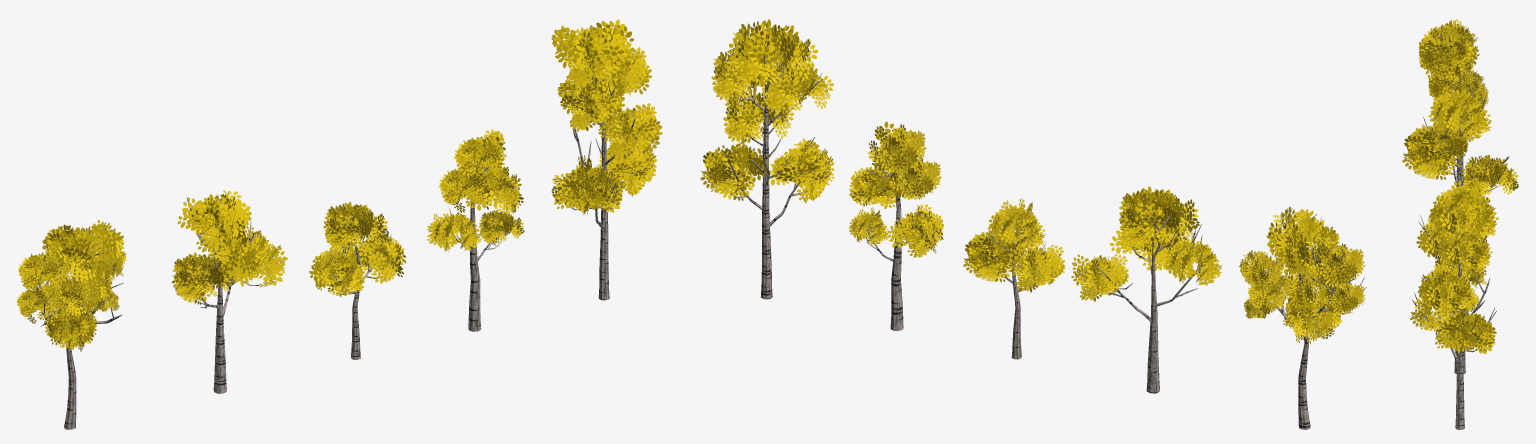
The model's file is birch-pack.glb.
3 views of the same model, side by side, from view 1: azimuth 30°, elevation 25°; view 2: azimuth 150°, elevation 25°; view 3: azimuth 270°, elevation 25° (orthographic). The views are drawn at different scales.
Visible parts, largest first — view 1: BirchTree_2, BirchTree_3, BirchTree_5, BirchTree_1, BirchTree_4; view 2: BirchTree_2, BirchTree_3, BirchTree_5, BirchTree_1, BirchTree_4; view 3: BirchTree_2, BirchTree_5, BirchTree_3, BirchTree_1.
Boxes of the visible parts, box(x1,y1,x2,y2) form: BirchTree_2: box(551, 19, 662, 300); BirchTree_3: box(17, 220, 126, 429); BirchTree_5: box(171, 190, 287, 393); BirchTree_1: box(427, 129, 524, 331); BirchTree_4: box(309, 201, 406, 359); BirchTree_2: box(700, 19, 834, 299); BirchTree_3: box(1239, 206, 1366, 429); BirchTree_5: box(1071, 186, 1221, 393); BirchTree_1: box(848, 121, 943, 330); BirchTree_4: box(963, 198, 1065, 359); BirchTree_2: box(1410, 178, 1498, 429); BirchTree_5: box(1402, 81, 1518, 196); BirchTree_3: box(1418, 19, 1488, 190); BirchTree_1: box(1425, 201, 1486, 374).
Size of the model in its own units: 18.56 by 7.57 by 3.51.
2 materials, 2 textured.
